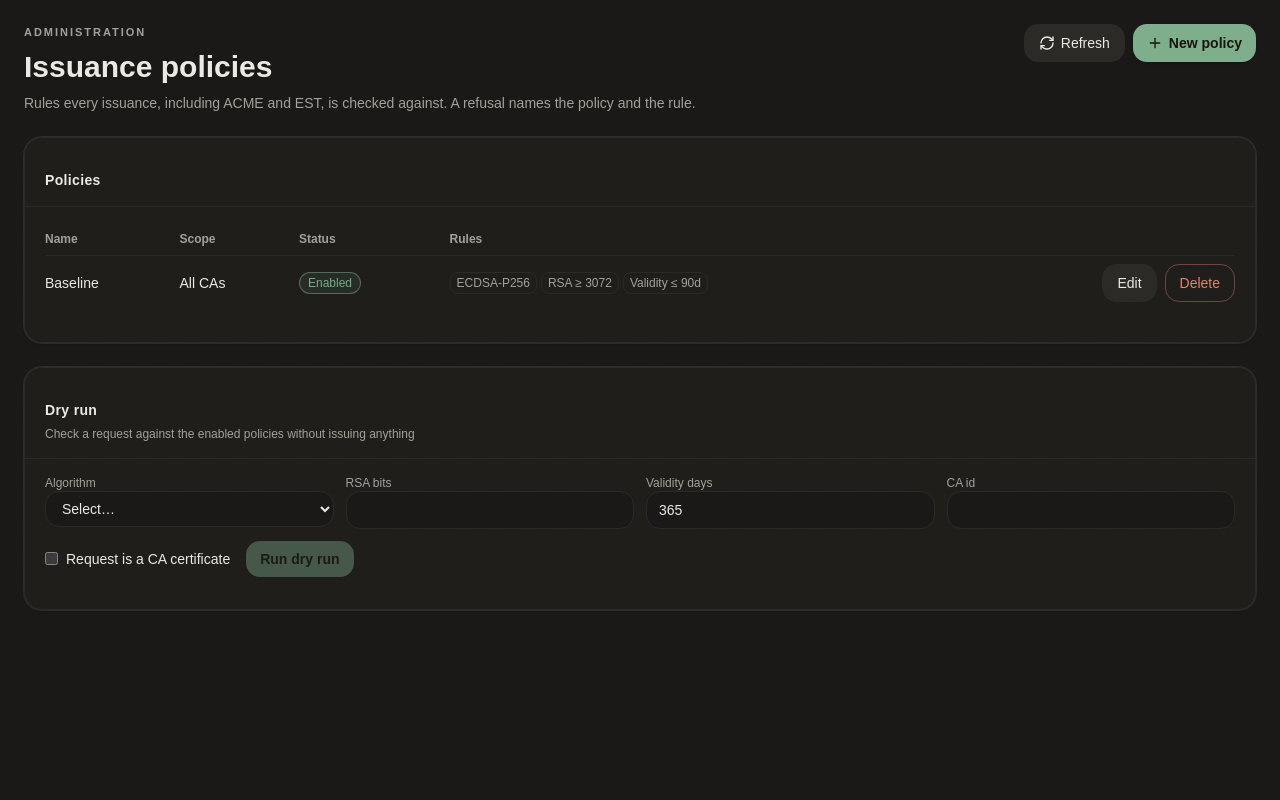
Scenario: Policies page › rejects an empty name client-side
Check: the text "Baseline" is shown, box x1=45 y1=255 x2=180 y2=310
Click the button "New policy".
click(1194, 43)  # box x1=1133 y1=24 x2=1256 y2=62
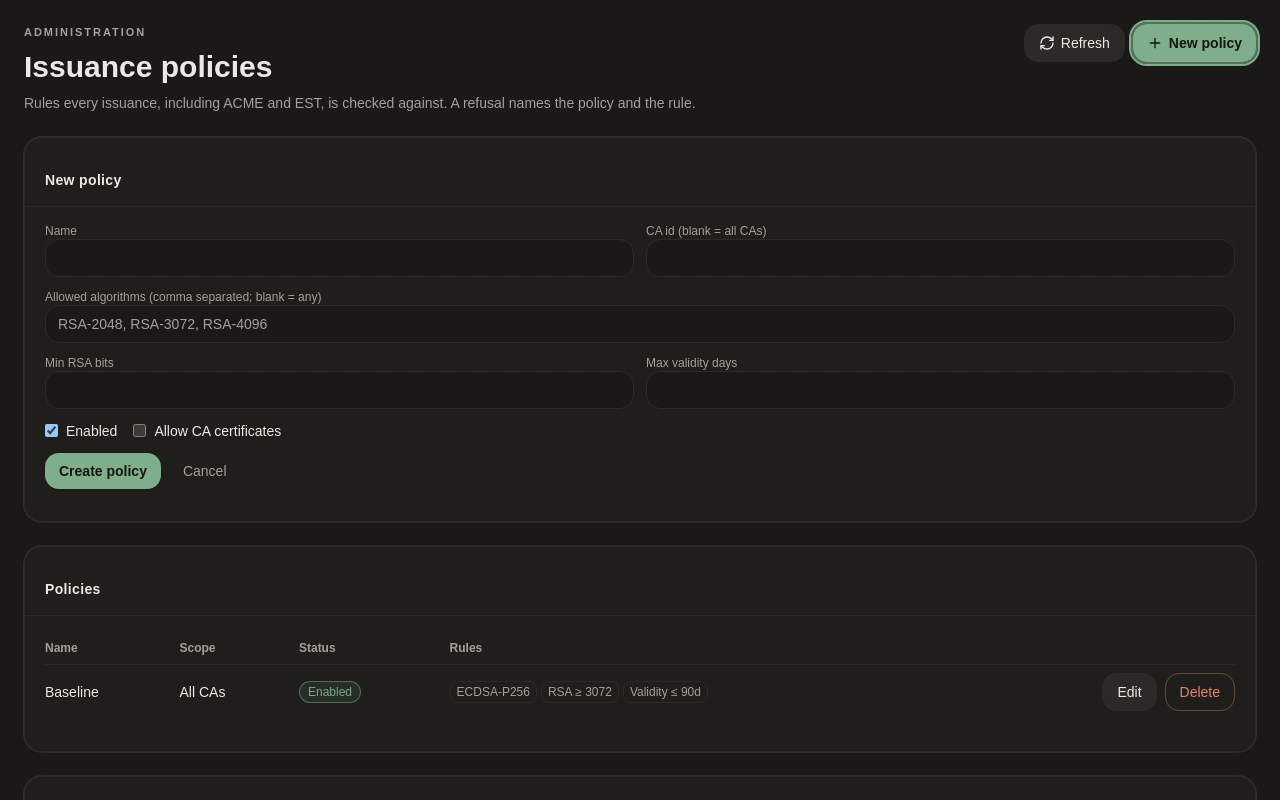
Click the button "Create policy".
click(103, 470)  # box x1=45 y1=452 x2=161 y2=488
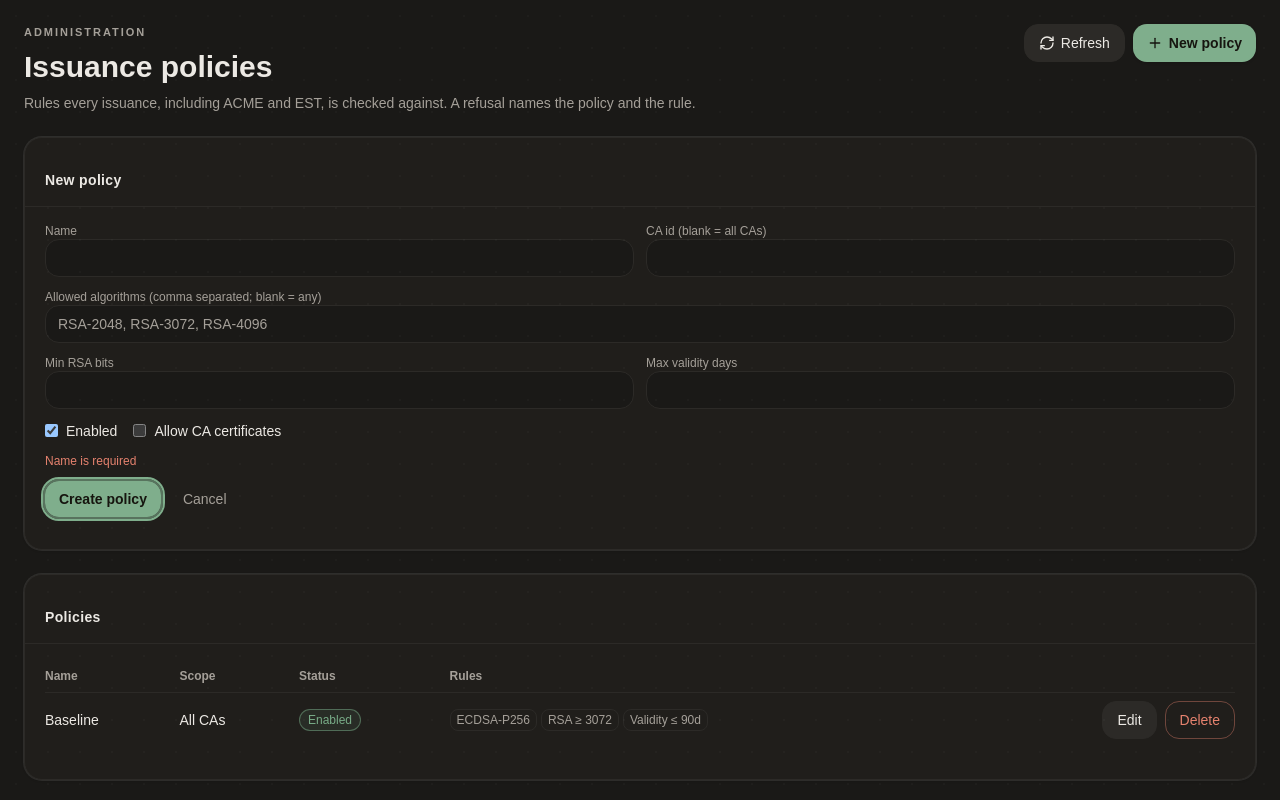
Check: the message reads "Name is required", box x1=45 y1=454 x2=136 y2=468
